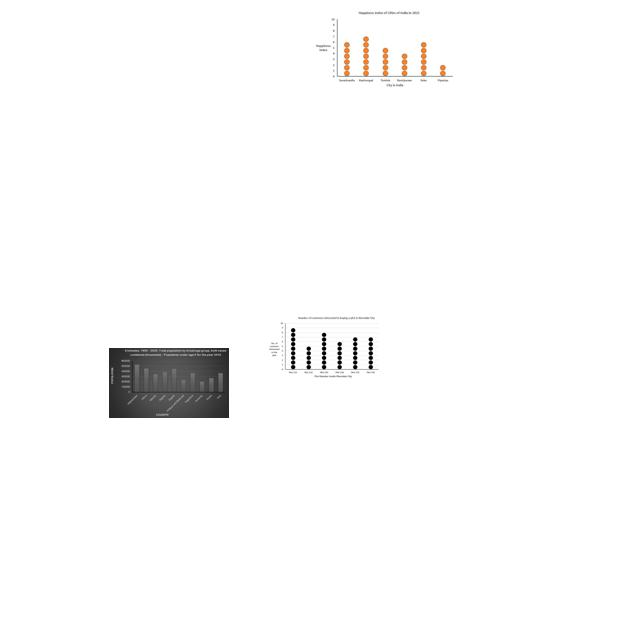Graph: (312, 9, 454, 91), (109, 348, 229, 418), (268, 316, 379, 379)
